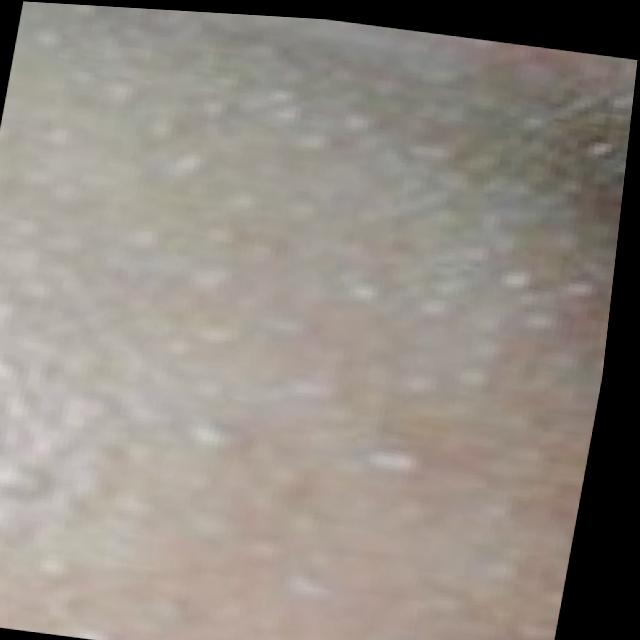whitehead: (20, 54, 633, 640)
